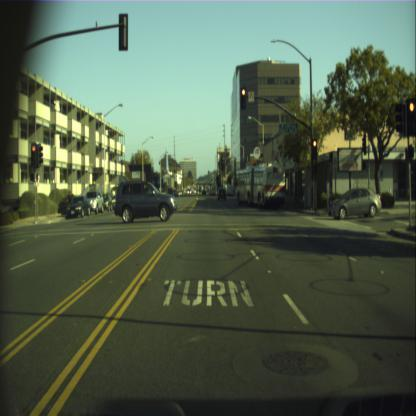Red: (406, 98, 415, 134), (30, 142, 36, 167), (240, 87, 246, 107), (312, 138, 316, 159)
